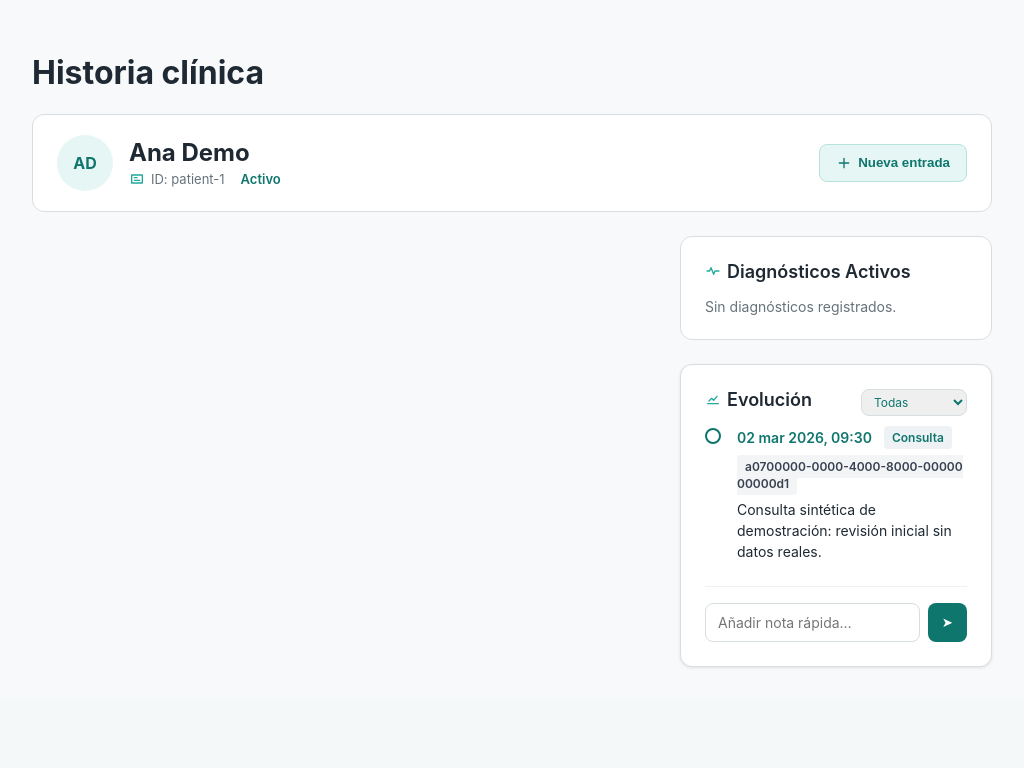
it: ClinicalPortalPage › submits through the injected use case with the write context
Expected: the text "Consulta sintética de demostración: revisión inicial sin datos reales." is shown, [737, 499, 967, 562]
Click the button "Nueva entrada" at [893, 163], box [819, 144, 967, 182]
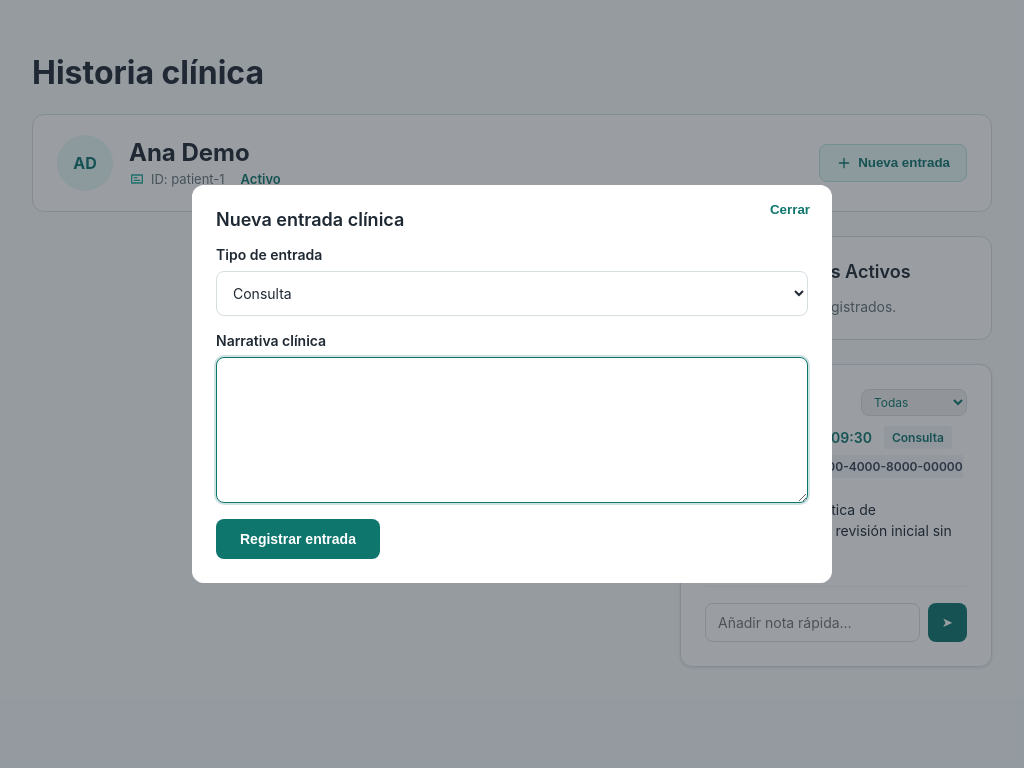
Type "Nota inyectada" into the text box labelled "Narrativa clínica" at [512, 430], box [216, 357, 808, 503]
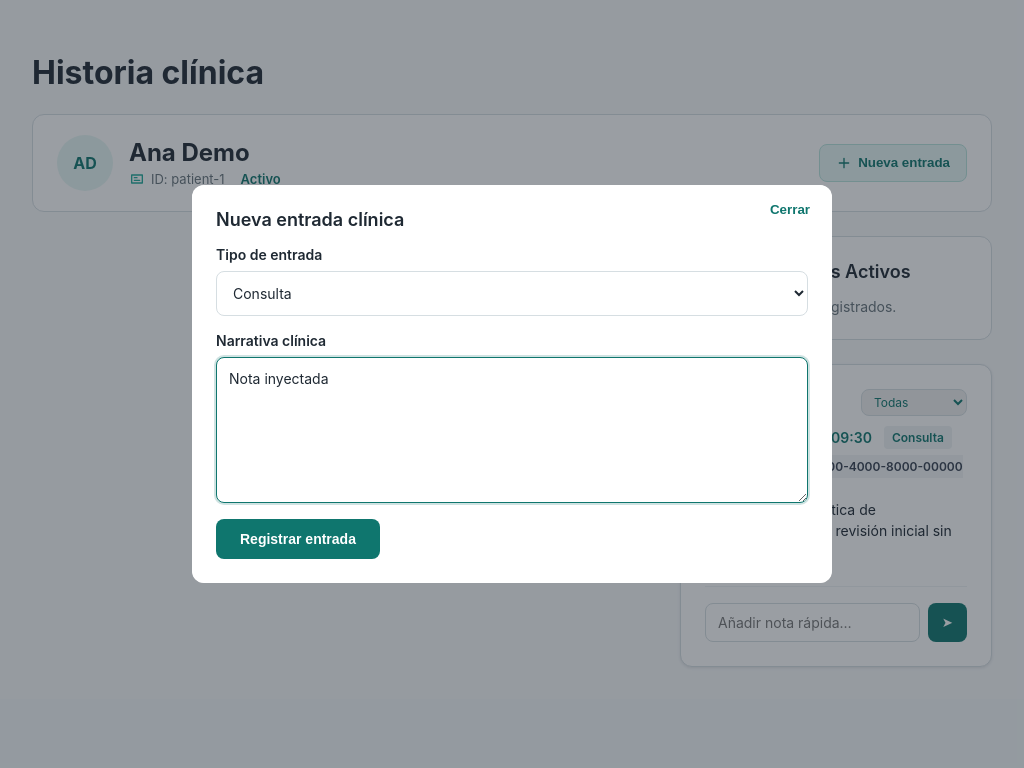
Click the button "Registrar entrada" at [298, 539], box [216, 519, 380, 559]
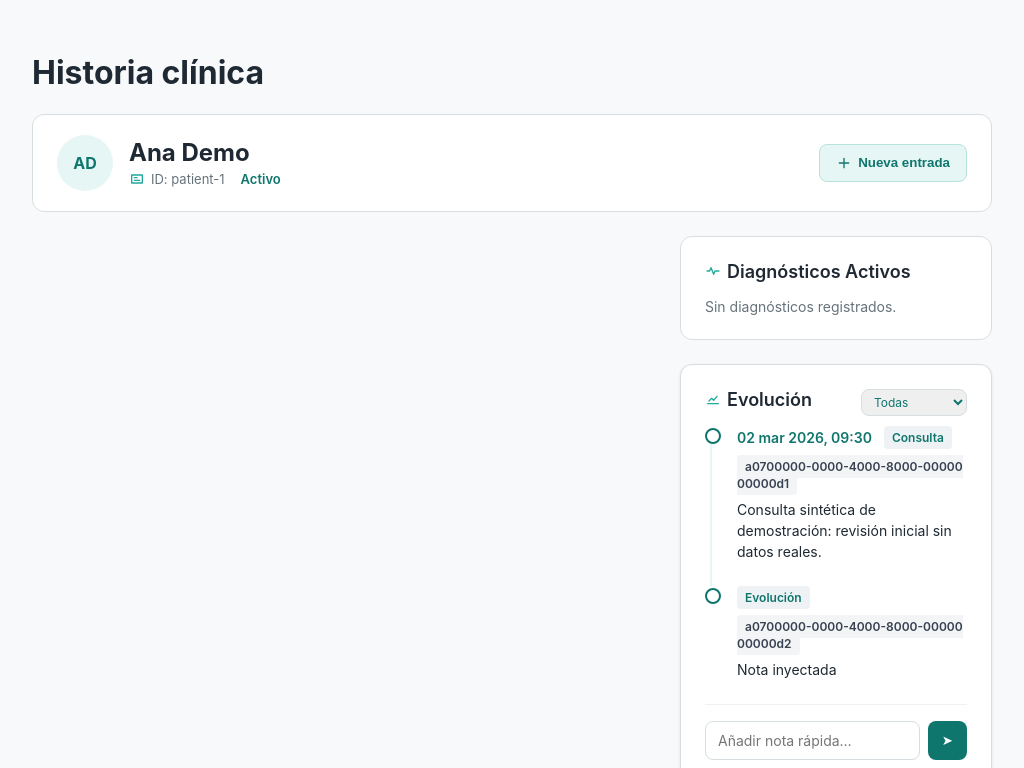
Now the text "Nota inyectada" is shown, box [736, 660, 836, 678]
